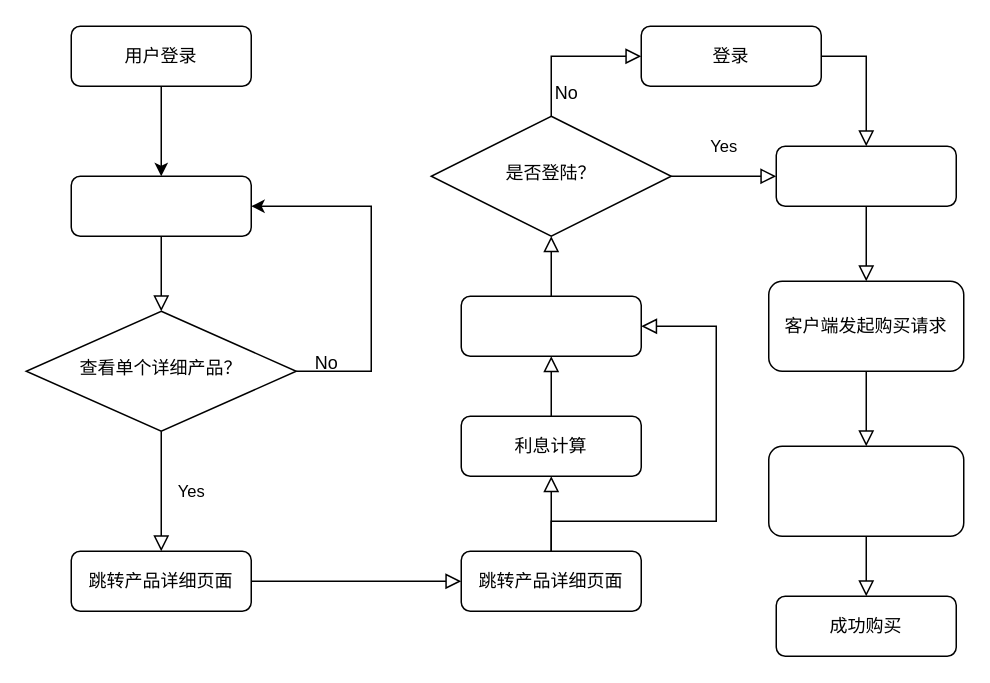
This 990x683 diagram has some shape labels left out. The shapes that lost their labels are listed below. From the top down, each one's centre as x and y in pixels, then its label:
At [865,175]: "资格验证".
At [160,205]: "查看产品列表".
At [550,325]: "购买产品".
At [865,490]: "顺序检验原子服务".
